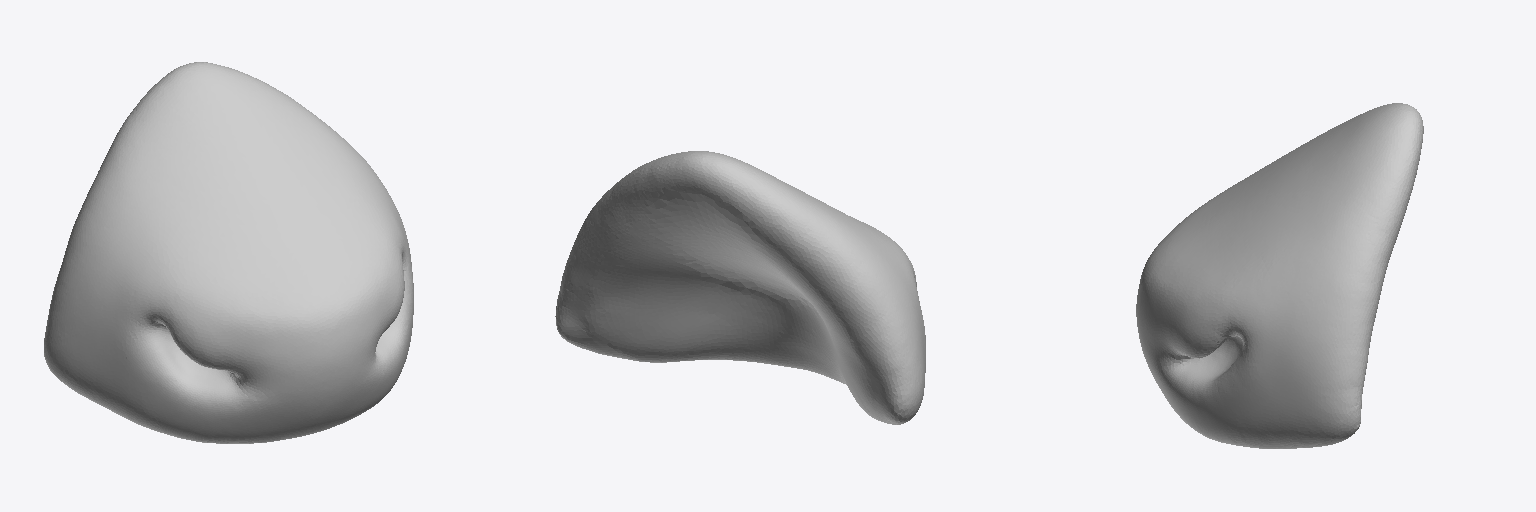
The model's file is nose.obj.
3 renders of one model, left to right at view 1: azimuth 30°, elevation 25°; view 2: azimuth 150°, elevation 25°; view 3: azimuth 270°, elevation 25°, orthographic.
Visible parts, largest first — view 1: Group30138; view 2: Group30138; view 3: Group30138.
Boxes of the visible parts, x1,y1,x2,y2 form: Group30138: [44, 62, 413, 443]; Group30138: [555, 151, 925, 424]; Group30138: [1136, 103, 1423, 448].
Size of the model in its own units: 0.1268 by 0.099 by 0.0885.